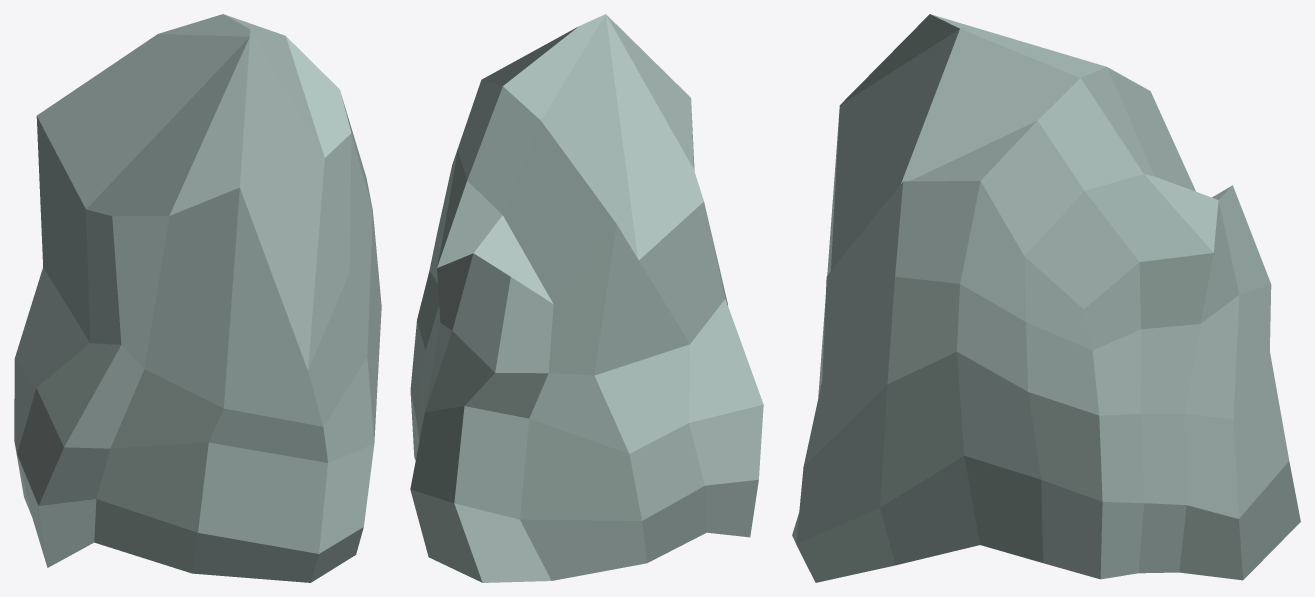
Rendered from Rock.fbx.
3 renders of one model, left to right at view 1: azimuth 30°, elevation 25°; view 2: azimuth 150°, elevation 25°; view 3: azimuth 270°, elevation 25°, orthographic. The views are drawn at different scales.
Parts seen in each view (by area): view 1: Cube.016_Cube.002; view 2: Cube.016_Cube.002; view 3: Cube.016_Cube.002.
Boxes of the visible parts, x1=… form: Cube.016_Cube.002: x1=14, y1=14, x2=381, y2=582; Cube.016_Cube.002: x1=410, y1=14, x2=763, y2=582; Cube.016_Cube.002: x1=792, y1=14, x2=1300, y2=582.
Size of the model in its own units: 871 by 1323 by 1094.
